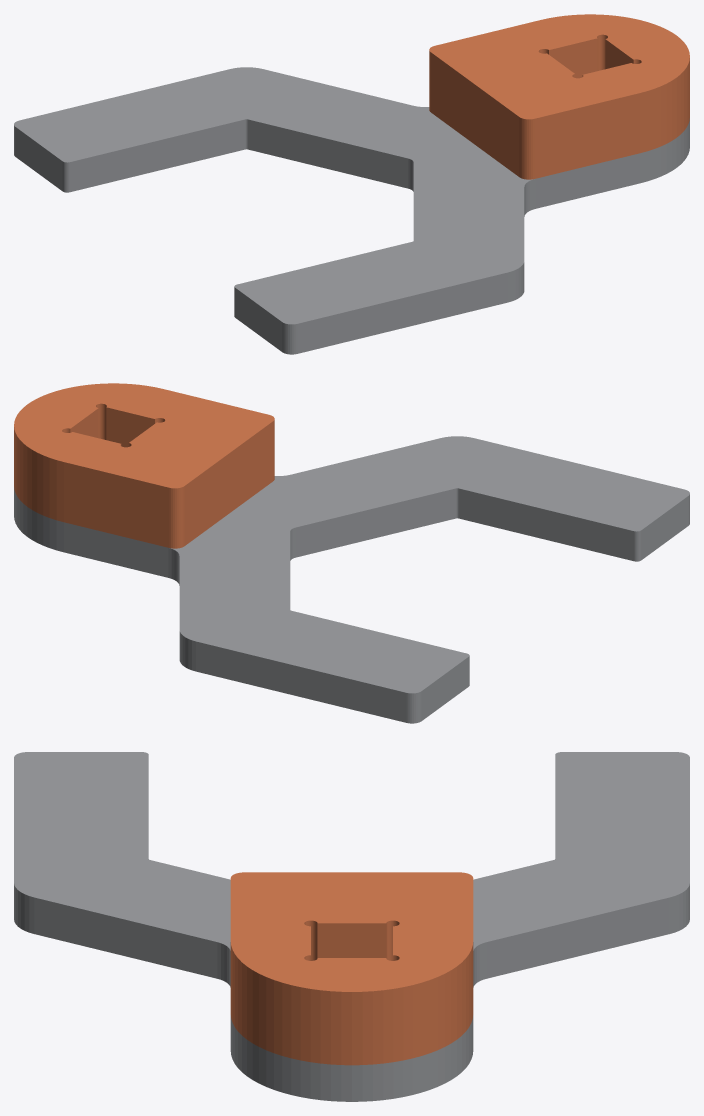
File: sgre_crows_foot_r1B.glb
3 views of the same model, one above another, from view 1: azimuth 30°, elevation 25°; view 2: azimuth 150°, elevation 25°; view 3: azimuth 270°, elevation 25° (orthographic). The views are drawn at different scales.
Visible parts, largest first — view 1: CF95_r1, CF95_DBL2_r1B, CF95_DBL1_r1B; view 2: CF95_r1, CF95_DBL2_r1B, CF95_DBL1_r1B; view 3: CF95_r1, CF95_DBL2_r1B, CF95_DBL1_r1B.
Boxes of the visible parts, <box> form: CF95_r1: <box>14,67,689,354</box>; CF95_DBL2_r1B: <box>429,14,689,149</box>; CF95_DBL1_r1B: <box>429,65,689,179</box>; CF95_r1: <box>14,436,689,723</box>; CF95_DBL2_r1B: <box>14,383,274,518</box>; CF95_DBL1_r1B: <box>14,434,274,548</box>; CF95_r1: <box>14,752,689,1101</box>; CF95_DBL2_r1B: <box>230,872,473,1028</box>; CF95_DBL1_r1B: <box>230,957,473,1065</box>.
Size of the model in its own units: 0.1746 by 0.0286 by 0.1593.
